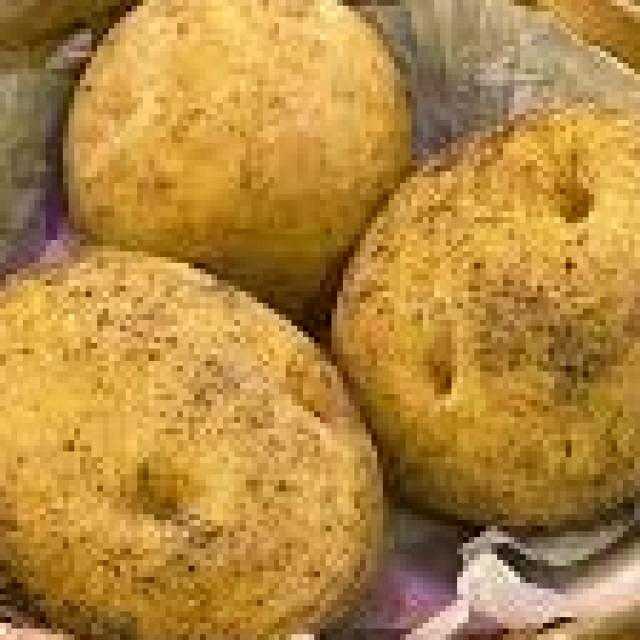potato: (0, 320, 326, 589), (411, 143, 640, 463), (120, 0, 383, 217)
